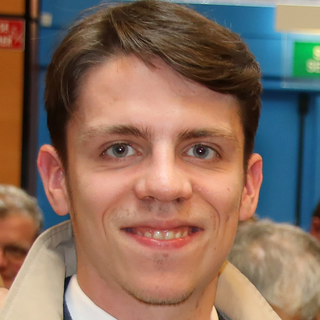eye: (174, 138, 229, 172), (93, 139, 146, 164)
